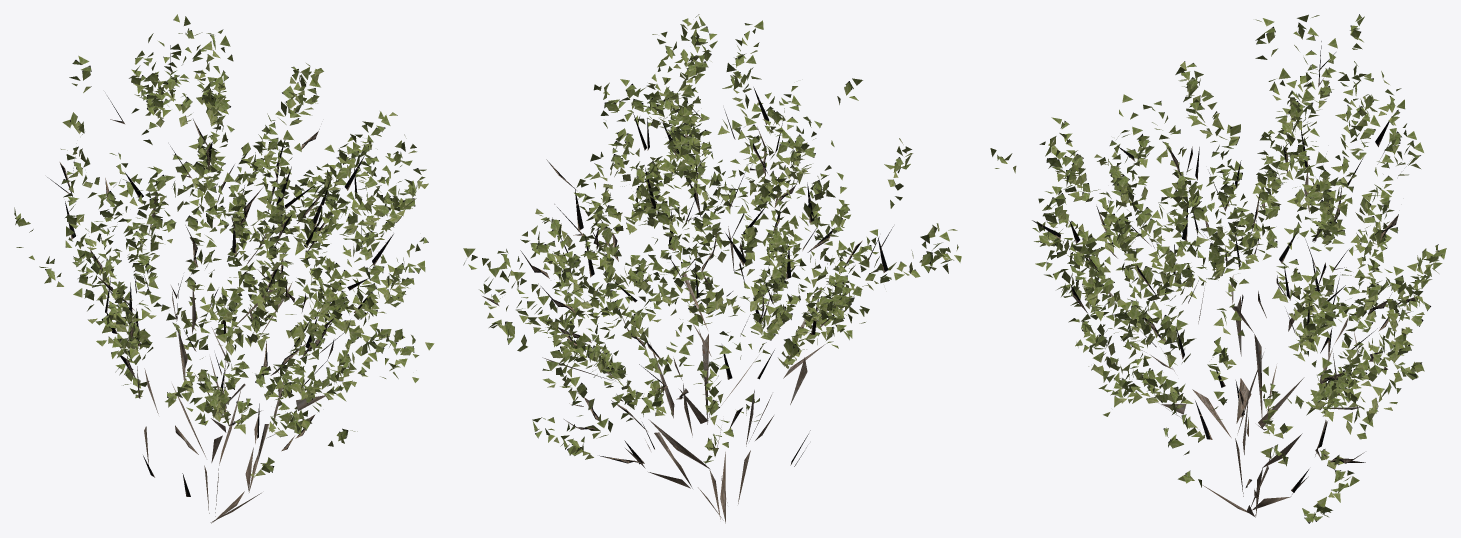
File: shrub_searsia.glb
3 renders of one model, left to right at view 1: azimuth 30°, elevation 25°; view 2: azimuth 150°, elevation 25°; view 3: azimuth 270°, elevation 25°, orthographic. The views are drawn at different scales.
Parts seen in each view (by area): view 1: searsia_lucida_a_LOD0; view 2: searsia_lucida_a_LOD0; view 3: searsia_lucida_a_LOD0.
Part boxes in pixels (x1=…): searsia_lucida_a_LOD0: x1=14, y1=14, x2=434, y2=523; searsia_lucida_a_LOD0: x1=463, y1=14, x2=961, y2=523; searsia_lucida_a_LOD0: x1=990, y1=14, x2=1446, y2=523.
Bounding box in the file's own units: 1.83 × 2.31 × 1.9.
Materials: 3 (3 with a texture image).
